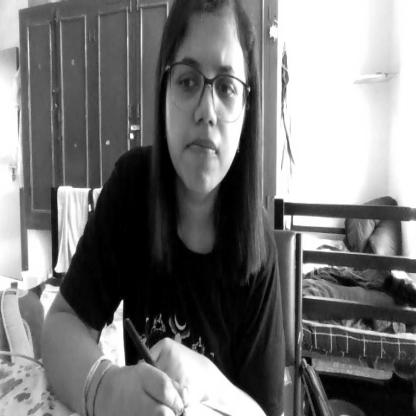Normal: (160, 0, 254, 207)
